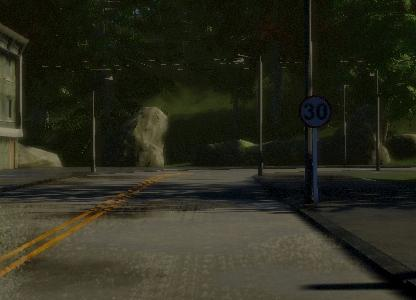Speed_30: (297, 91, 335, 132)
